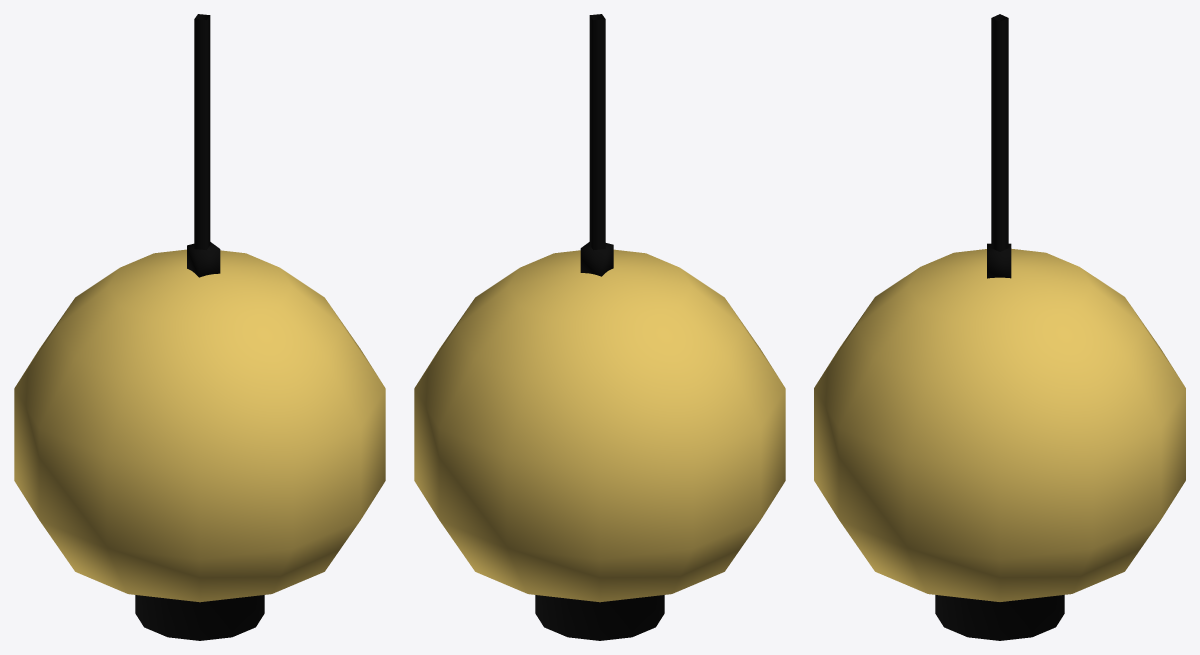
The model's file is SM_lantern_japan_02.fbx.
The picture shows the model from 3 angles, left to right: view 1: azimuth 30°, elevation 25°; view 2: azimuth 150°, elevation 25°; view 3: azimuth 270°, elevation 25°; orthographic projection.
Visible parts, largest first — view 1: Sphere003; view 2: Sphere003; view 3: Sphere003.
Boxes of the visible parts, x1=… form: Sphere003: x1=14, y1=14, x2=385, y2=640; Sphere003: x1=414, y1=14, x2=785, y2=640; Sphere003: x1=814, y1=14, x2=1185, y2=640.
Size of the model in its own units: 19.9 by 35.25 by 19.9.
